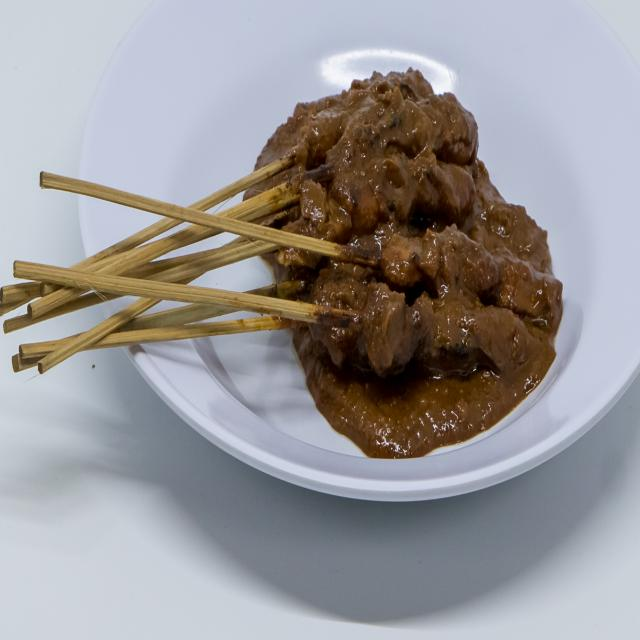Sate-Ayam: (218, 32, 565, 410)
